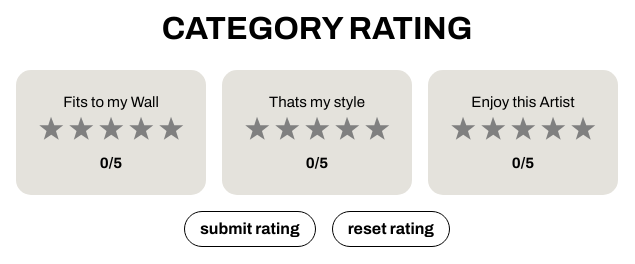
Test: categoryStarRating › should click the 3rd star and verify rating
Click the 3rd element with class "star" at [111, 133], box [96,114,126,151]
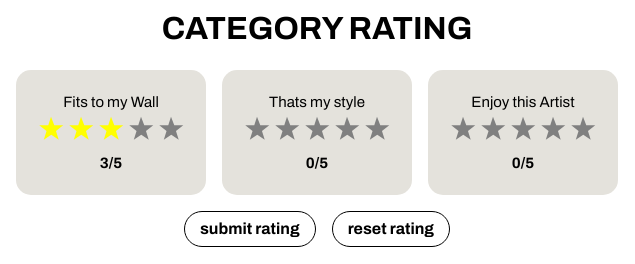
Now the text "3/5" is shown, box [100,155,122,171]
